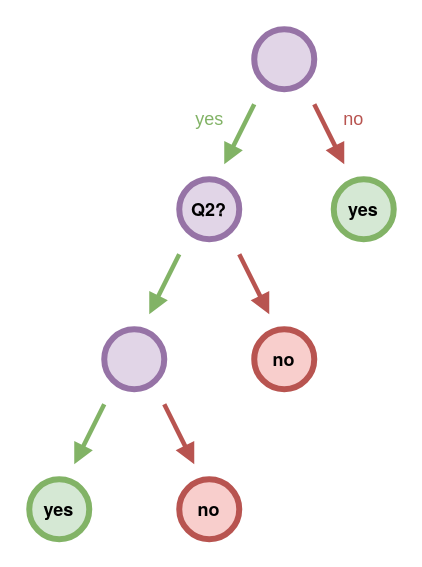
The diagram is 422 pixels wide and 567 high, and some of its shapes have lost their labels. Here are the shapes that lost their labels. From the top down, the centre of each, then its label:
At [283,59]: "Q1?".
At [133,359]: "Q3?".
